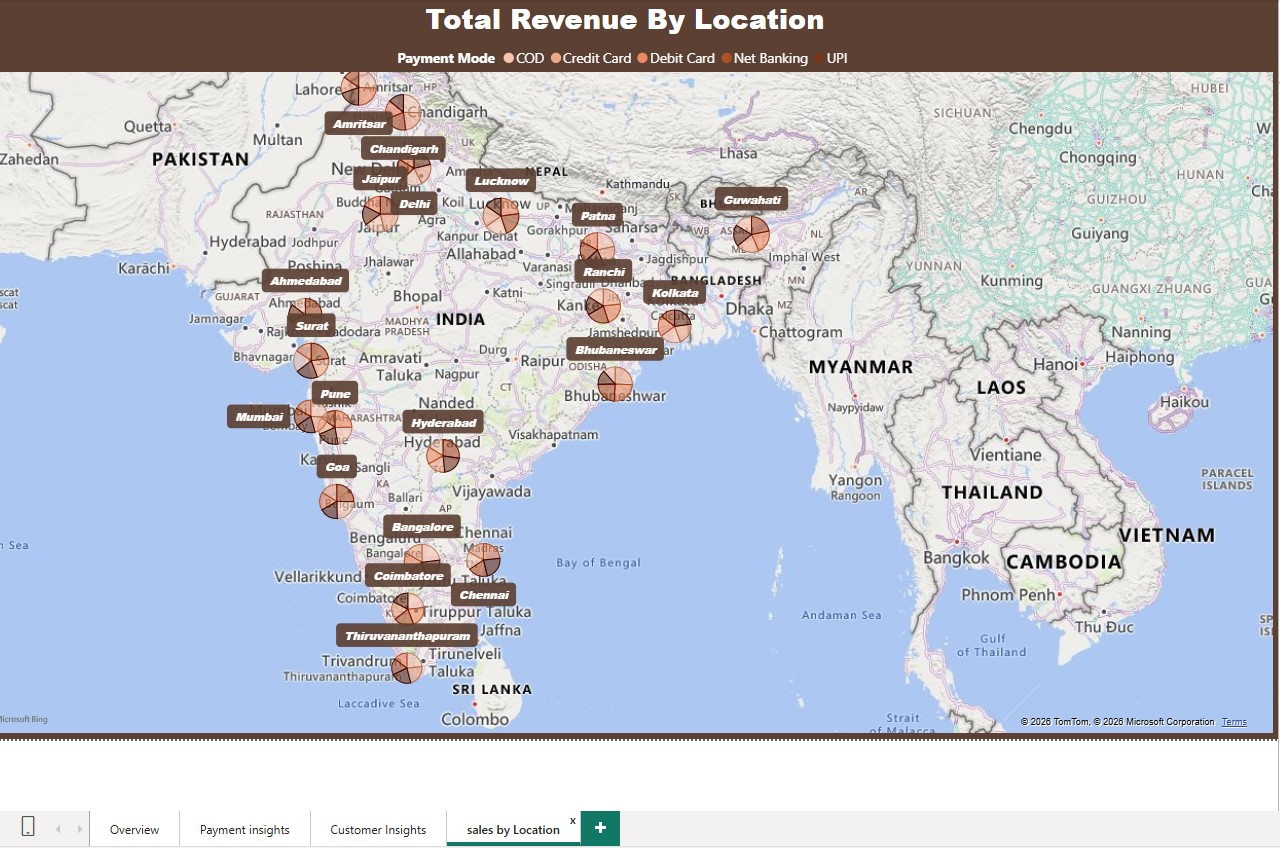

Layout of this report page (visuals, bound fields, positions):
{"tool":"powerbi","page":{"name":"sales by Location","canvas":[1280,720],"ordinal":3},"visuals":[{"type":"shape","title":"Product & Profitability","box":[0,0,1280,66.8],"z":0},{"type":"map","title":"Total Revenue By Location","fields":{"Category":["Ecommerce_Sales_Data_2024_2025.City"],"Size":["Ecommerce_Sales_Data_2024_2025.Total Sales"],"Series":["Ecommerce_Sales_Data_2024_2025.Payment Mode"]},"box":[9.7,0,1270.3,719.8],"z":1}]}

Visuals, with their boxes on the page's 1280x720 design canvas (x1, y1, x2, y2). These are canvas units, not pixel positions in the 1280x848 screenshot, which may show the page scaled, cropped or inside an application window:
"Product & Profitability" shape: x1=0, y1=0, x2=1280, y2=67
"Total Revenue By Location" map: x1=10, y1=0, x2=1280, y2=720
